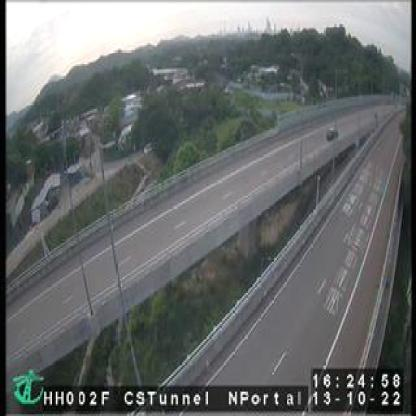Car: (325, 126, 337, 141)
